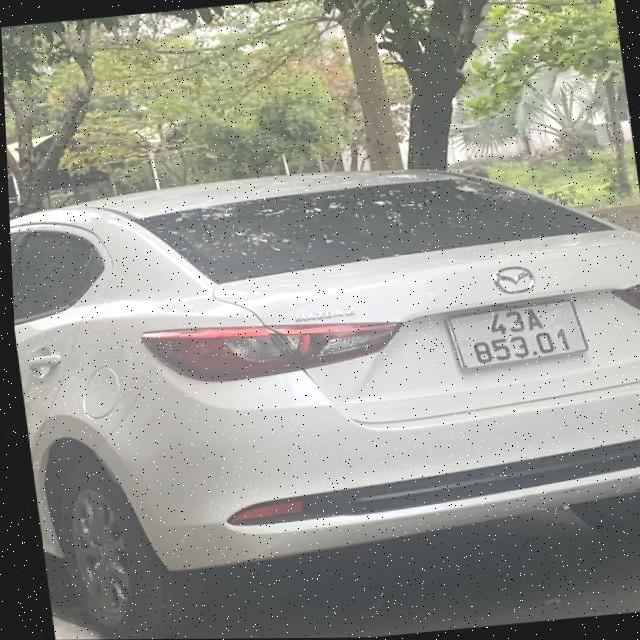car: (6, 137, 640, 640)
plate: (439, 291, 603, 378)
